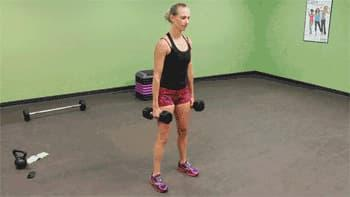Prepare: (146, 3, 203, 197)
